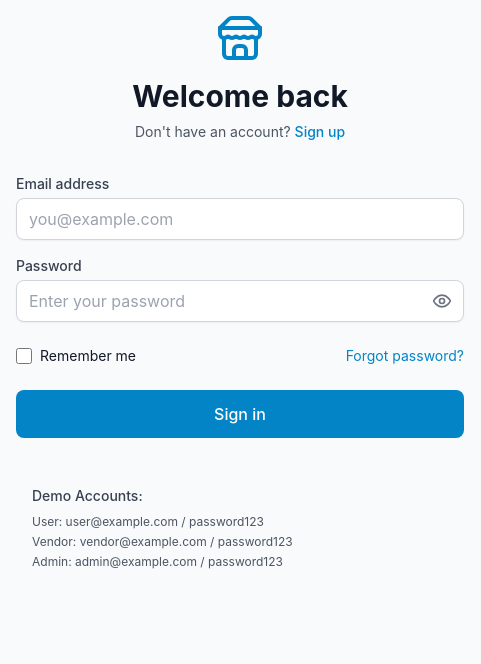
it: LoginPage › should show error for invalid credentials
Type "wrong@example.com" into the field labelled "Email address".
click(240, 219); type("wrong@example.com")  # box 16,198 -> 464,240
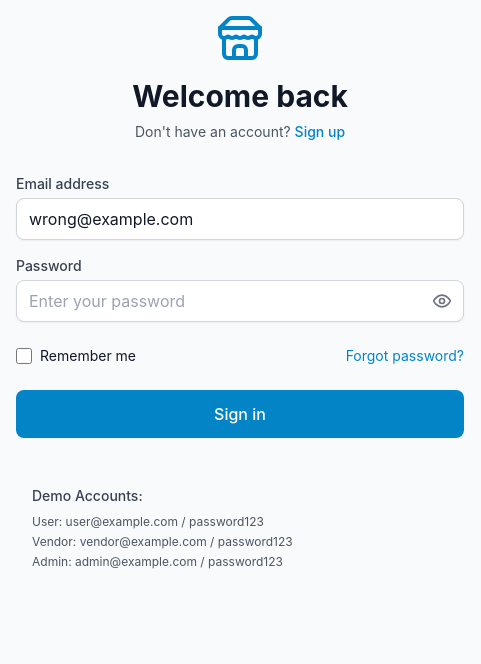
Type "wrongpassword" into the password field labelled "Password".
click(240, 301); type("wrongpassword")  # box 16,280 -> 464,322
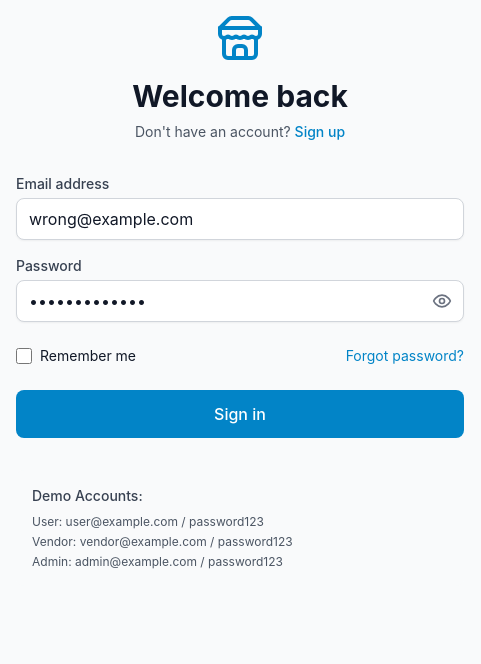
Click the button "Sign in".
click(240, 414)  # box 16,390 -> 464,438
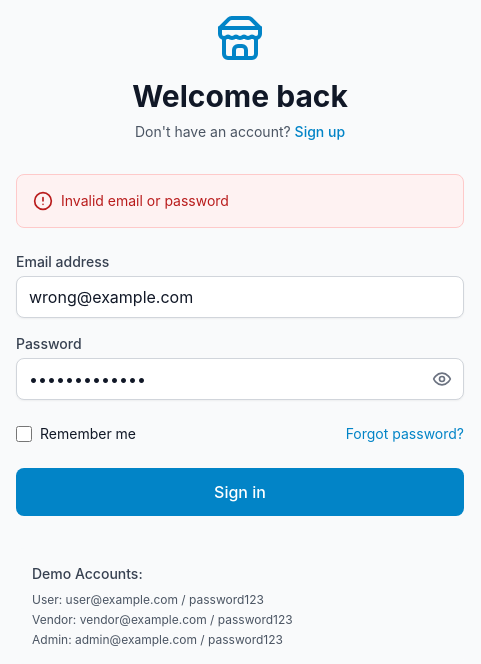
Now the text "Invalid email or password" is shown, box 61,191 -> 229,211
